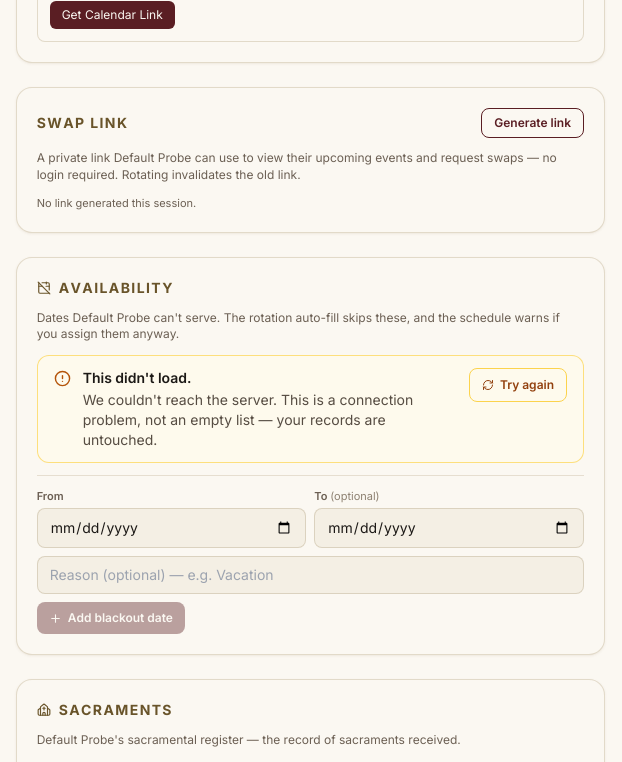
Test: R310-2 availability: an older read never overwrites a newer one › CONTROL: the current request answering empty still says "No blackout dates."
(page scrolled)
Expected: the text "This didn't load." is shown, [83,369,192,386]
Click the button "Try again". click: (518, 385)
box: [469,368,567,402]
(page scrolled)
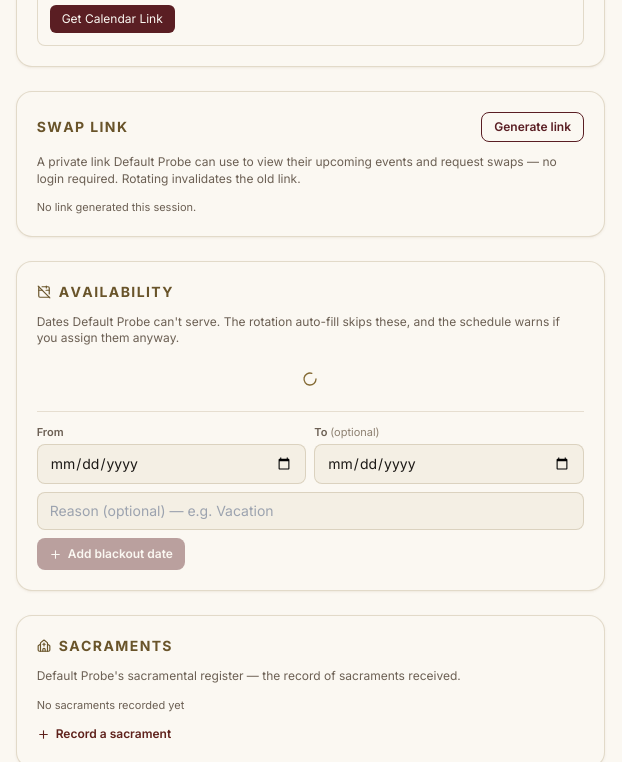
Type "2026-12-24" into the date field below "From". click: (172, 464)
box: [37,444,306,484]
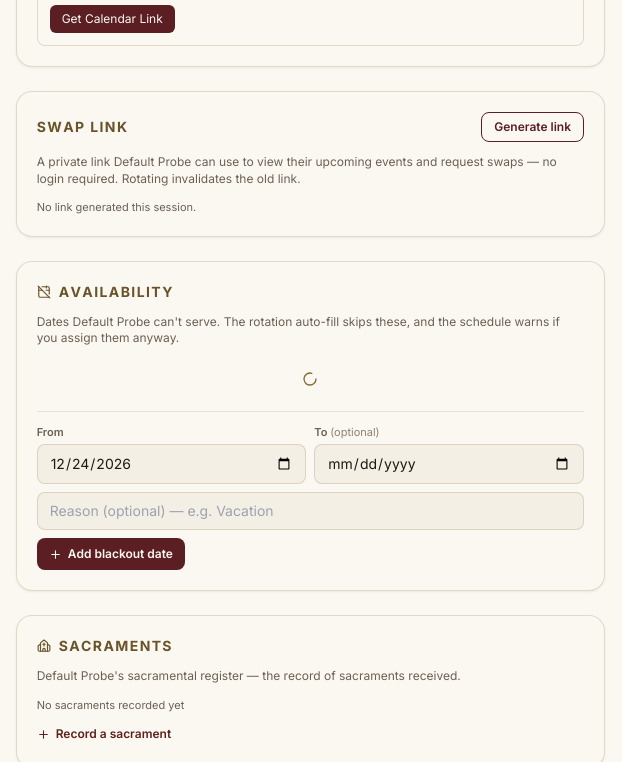
Submit the form "From To (optional) Add blackout date", box [37,411,584,570]
(page scrolled)
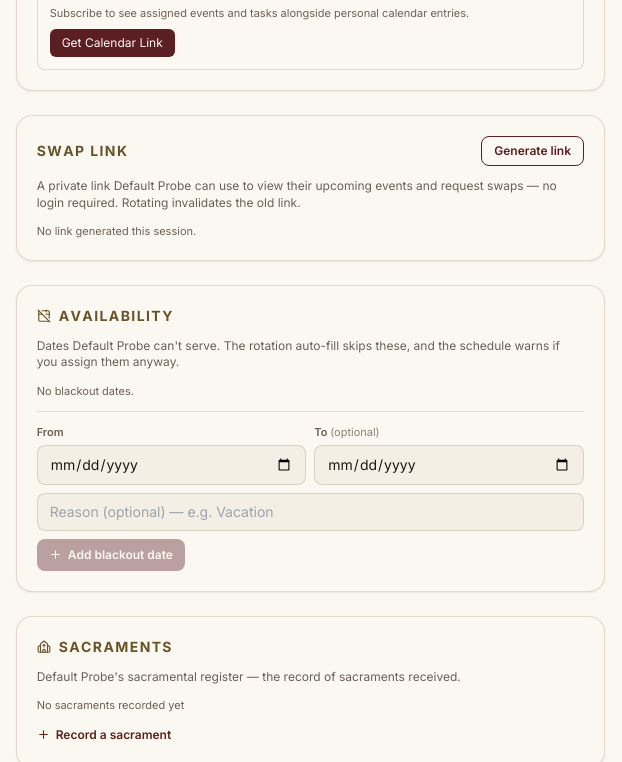
Expected: the text "This didn't load." is not shown
Expected: the text "No blackout dates." is shown, [37,384,134,398]
